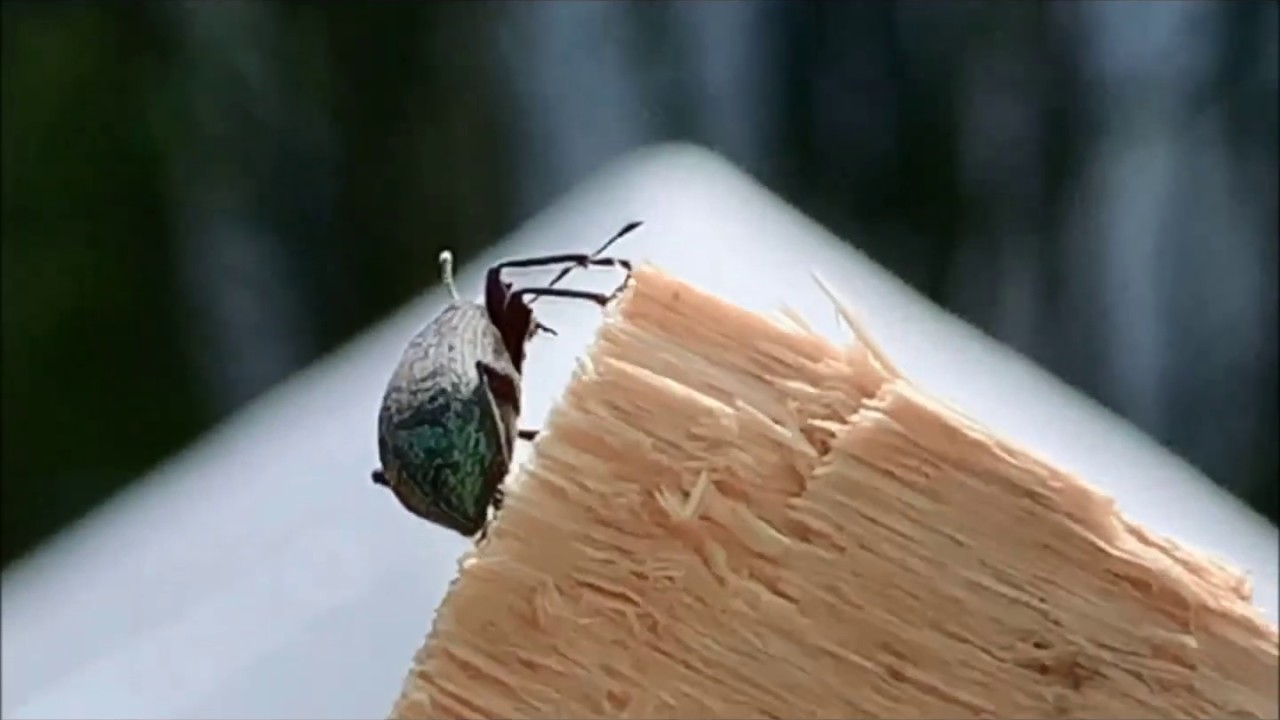dolgonosik: (371, 225, 646, 547)
